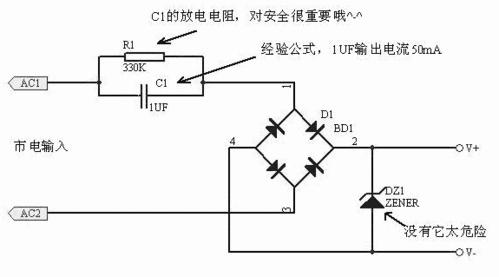bridge: (250, 105, 339, 192)
cap1: (136, 82, 151, 110)
diode: (356, 186, 390, 215)
res1: (120, 50, 169, 65)
